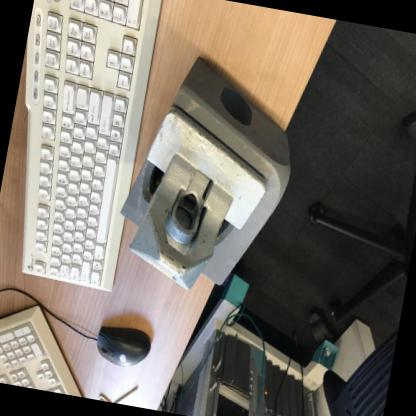CornerCasting: (140, 40, 308, 209)
Twistlock: (118, 103, 279, 305)
